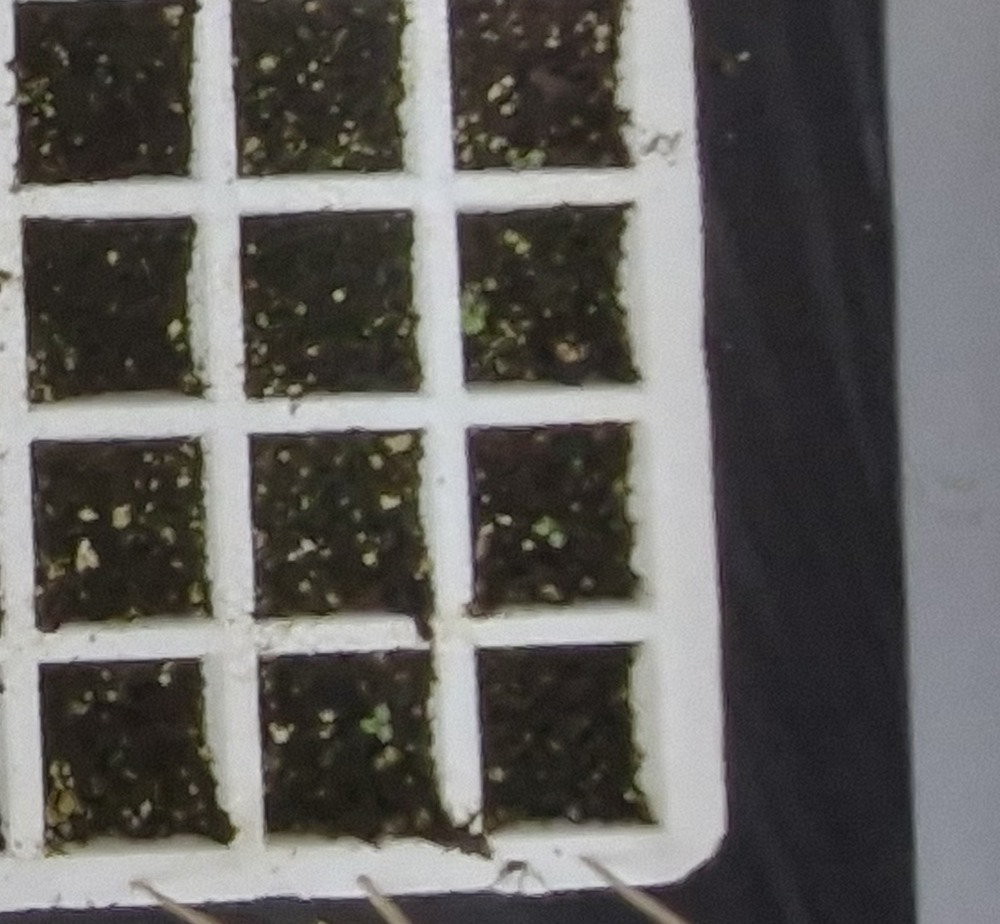Folha: (530, 516, 553, 535), (373, 702, 392, 721), (548, 531, 566, 549), (377, 725, 393, 744), (361, 718, 380, 732)
Germinacao: (360, 702, 394, 741), (530, 517, 567, 551)
